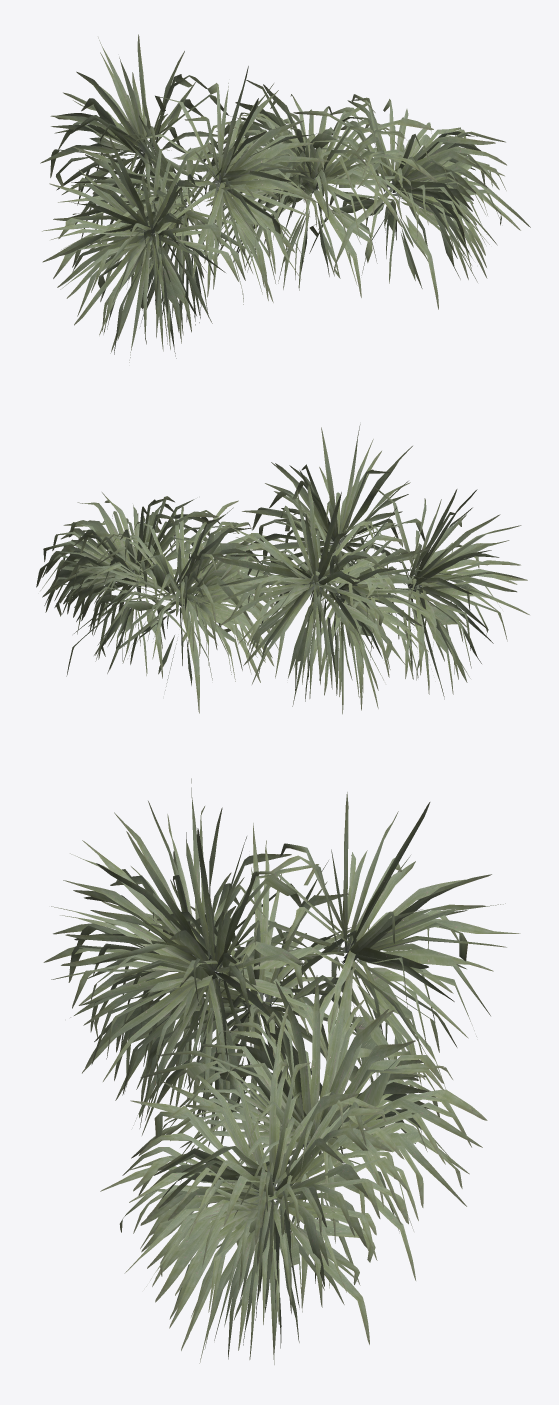
The model's file is MESH_AF08_DracaenaDraco_M_LOD2.fbx.
3 views of the same model, one above another, from view 1: azimuth 30°, elevation 25°; view 2: azimuth 150°, elevation 25°; view 3: azimuth 270°, elevation 25° (orthographic). The views are drawn at different scales.
Parts seen in each view (by area): view 1: MI_LOD2_001; view 2: MI_LOD2_001; view 3: MI_LOD2_001.
Part boxes in pixels (x1=…): MI_LOD2_001: x1=40, y1=34, x2=530, y2=362; MI_LOD2_001: x1=36, y1=424, x2=529, y2=714; MI_LOD2_001: x1=43, y1=778, x2=520, y2=1364.
Size of what is drawn, in the model's own units: 539 by 320 by 347.
